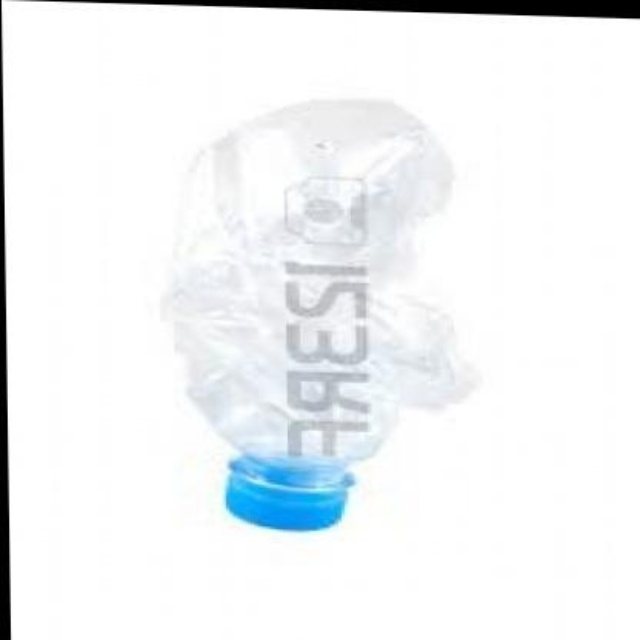trash: (174, 100, 466, 528)
